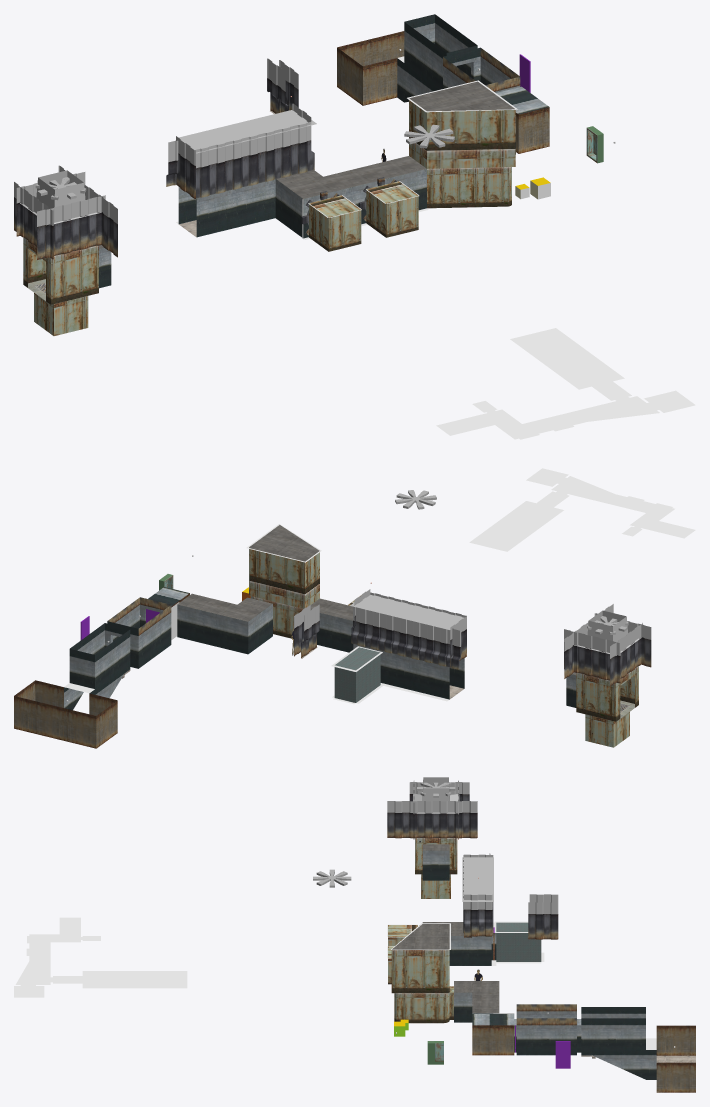
The model's file is metal_place.dae.
3 renders of one model, top to bottom at view 1: azimuth 30°, elevation 25°; view 2: azimuth 150°, elevation 25°; view 3: azimuth 270°, elevation 25°, orthographic. The views are drawn at different scales.
Parts seen in each view (by area): view 1: group_16 (×7), group_12 (×2), SketchUp, group_8 (×2), group_9 (×2), group_17, group_14, group_13, group_5, corrugation (×2), group_10; view 2: group_16 (×8), SketchUp, group_17, group_7 (×2), group_12 (×2), group_9 (×2), group_0, group_5, corrugation (×2), group_10; view 3: group_16 (×9), SketchUp, group_17, corrugation (×3), group_9 (×3), group_0, group_12, group_5, corrugation_1, group_15, group_10.
Part boxes in pixels (box(x1,y1,x2,y2)): group_16 (×7): box(397, 14, 549, 208); group_12 (×2): box(196, 156, 426, 238); SketchUp: box(436, 328, 695, 439); group_8 (×2): box(195, 122, 314, 198); group_9 (×2): box(23, 237, 98, 335); group_17: box(337, 31, 404, 105); group_14: box(366, 181, 418, 237); group_13: box(309, 195, 361, 251); group_5: box(178, 110, 316, 153); corrugation (×2): box(37, 212, 101, 260); group_10: box(20, 170, 101, 224); group_16 (×8): box(64, 525, 319, 710); SketchUp: box(469, 468, 695, 551); group_17: box(14, 680, 117, 748); group_7 (×2): box(351, 606, 460, 669); group_12 (×2): box(310, 598, 449, 699); group_9 (×2): box(576, 666, 638, 747); group_0: box(334, 647, 380, 702); group_5: box(350, 595, 464, 629); corrugation (×2): box(564, 642, 620, 683); group_10: box(574, 610, 641, 655); group_16 (×9): box(391, 924, 656, 1079); SketchUp: box(14, 917, 187, 997); group_17: box(656, 1025, 695, 1092); corrugation (×3): box(387, 812, 477, 838); group_9 (×3): box(415, 838, 457, 898); group_0: box(496, 922, 541, 961); group_12: box(449, 933, 493, 965); group_5: box(462, 857, 493, 901); corrugation_1: box(528, 914, 558, 939); group_15: box(464, 909, 492, 937); group_10: box(413, 777, 459, 813).
Bounding box in the file's own units: 1346 × 1784 × 365.
